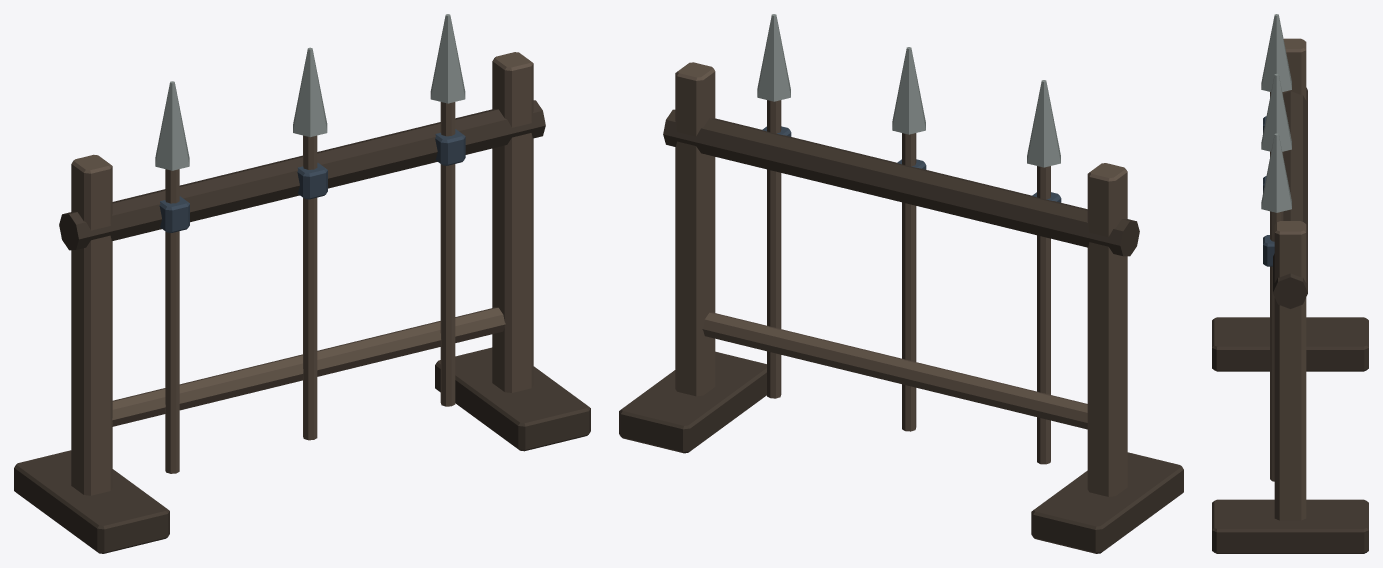
The model's file is weapon-rack.glb.
The picture shows the model from 3 angles, left to right: view 1: azimuth 30°, elevation 25°; view 2: azimuth 150°, elevation 25°; view 3: azimuth 270°, elevation 25°; orthographic projection. The views are drawn at different scales.
Visible parts, largest first — view 1: weapon-rack__body; view 2: weapon-rack__body; view 3: weapon-rack__body.
Part boxes in pixels (bbox=[...]): weapon-rack__body: bbox=[14, 14, 590, 553]; weapon-rack__body: bbox=[619, 14, 1183, 553]; weapon-rack__body: bbox=[1212, 14, 1368, 553].
Bounding box in the file's own units: 1.29 × 1.05 × 0.4.
